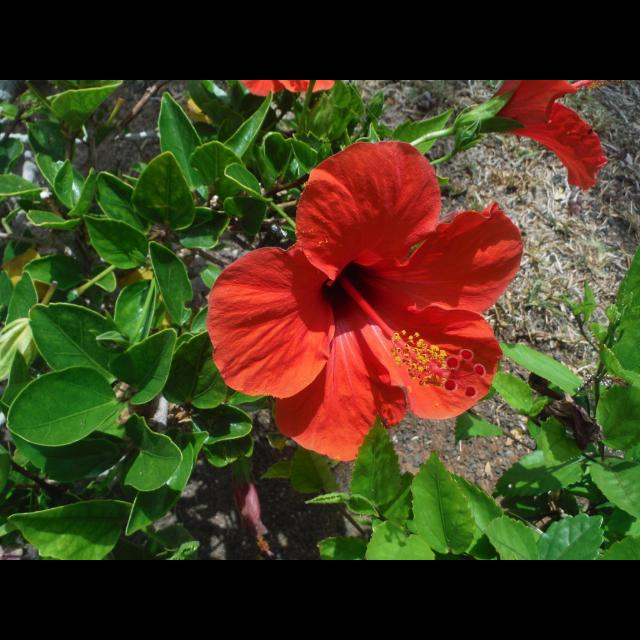Flower: (191, 159, 497, 451), (478, 80, 616, 194), (236, 80, 334, 98)
